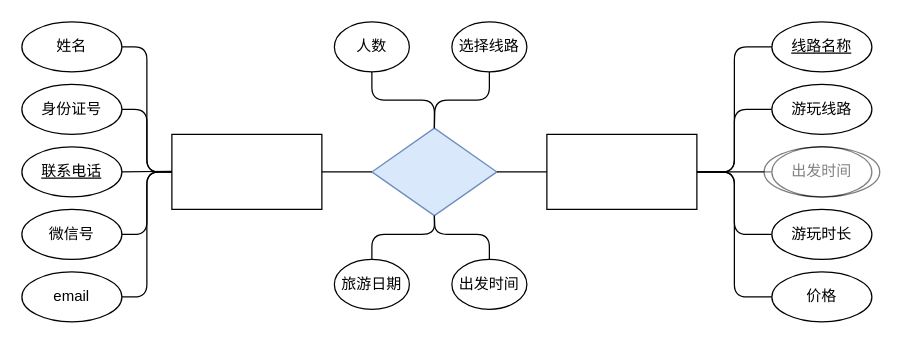
Image size: 903x344. Some labels were removed from this diagram. Each missing label, with the centre of its shape:
客户: (246,171)
旅游线路: (621,171)
预订: (434,171)
